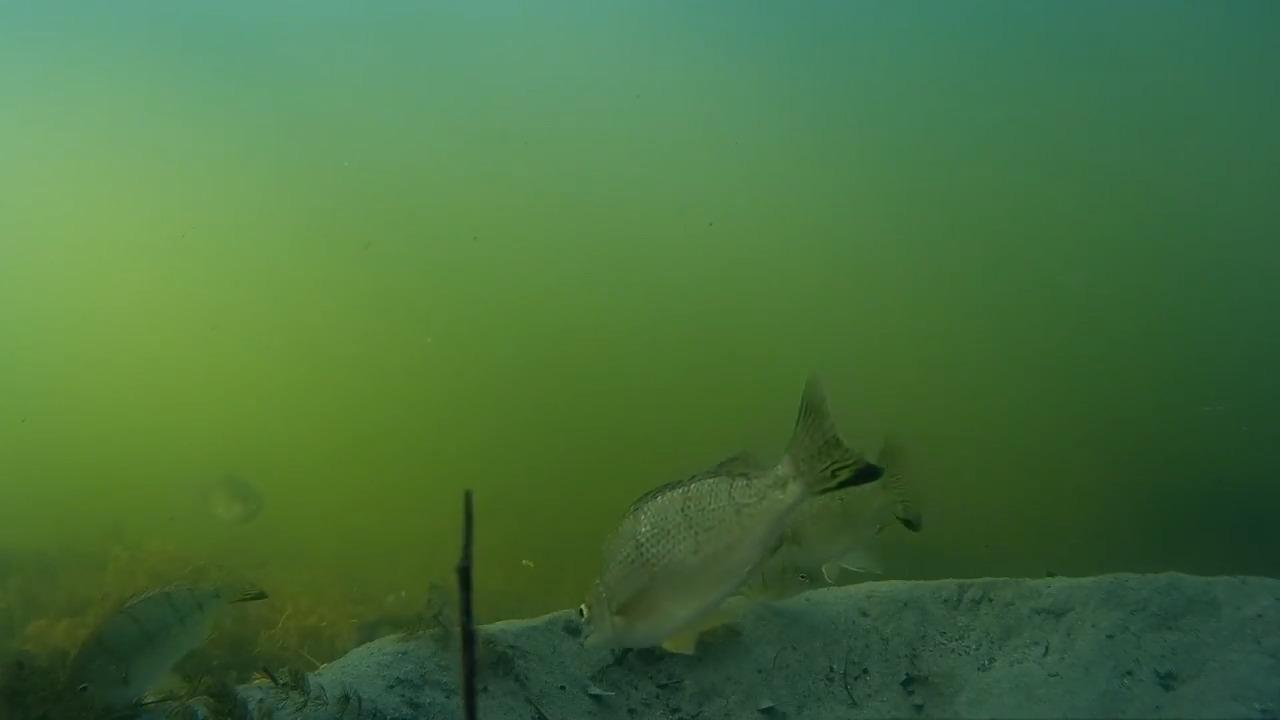Tilapia: (561, 384, 922, 694), (15, 572, 282, 714), (758, 440, 959, 626), (181, 454, 276, 526)
